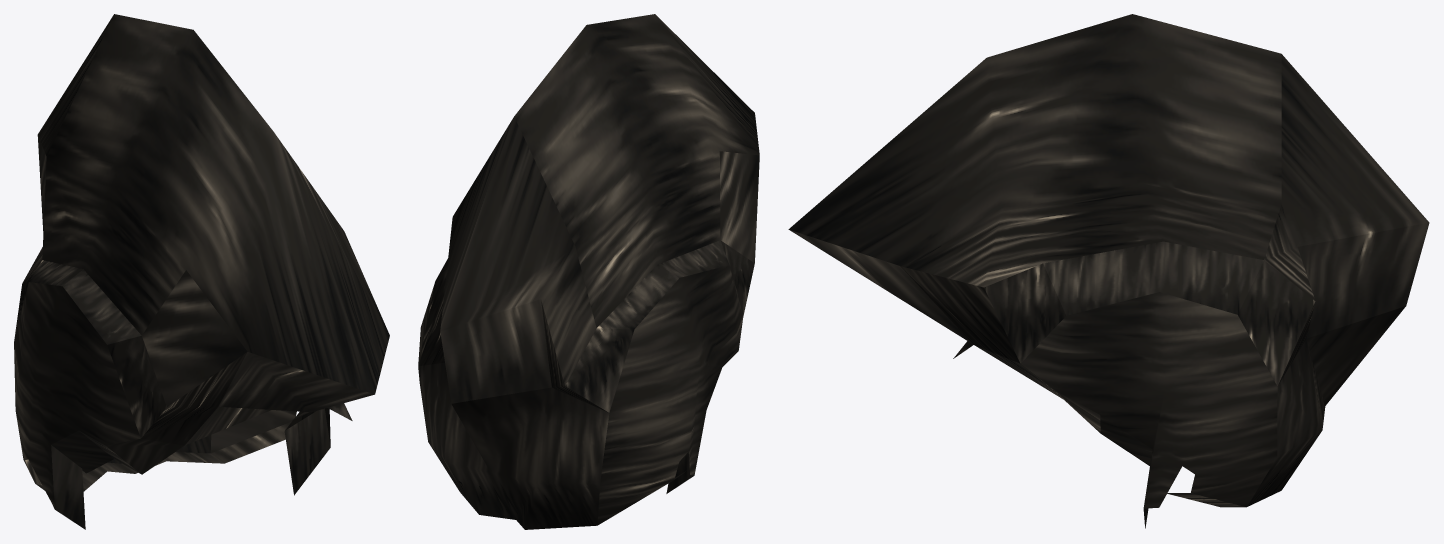
Rendered from hair man 3.FBX.
3 views of the same model, side by side, from view 1: azimuth 30°, elevation 25°; view 2: azimuth 150°, elevation 25°; view 3: azimuth 270°, elevation 25° (orthographic). The views are drawn at different scales.
Visible parts, largest first — view 1: Hair man 3; view 2: Hair man 3; view 3: Hair man 3.
Boxes of the visible parts, x1,y1,x2,y2 form: Hair man 3: (14, 14, 389, 529); Hair man 3: (418, 14, 759, 529); Hair man 3: (788, 14, 1429, 528).
Bounding box in the file's own units: 38.98 × 63.28 × 78.76.
